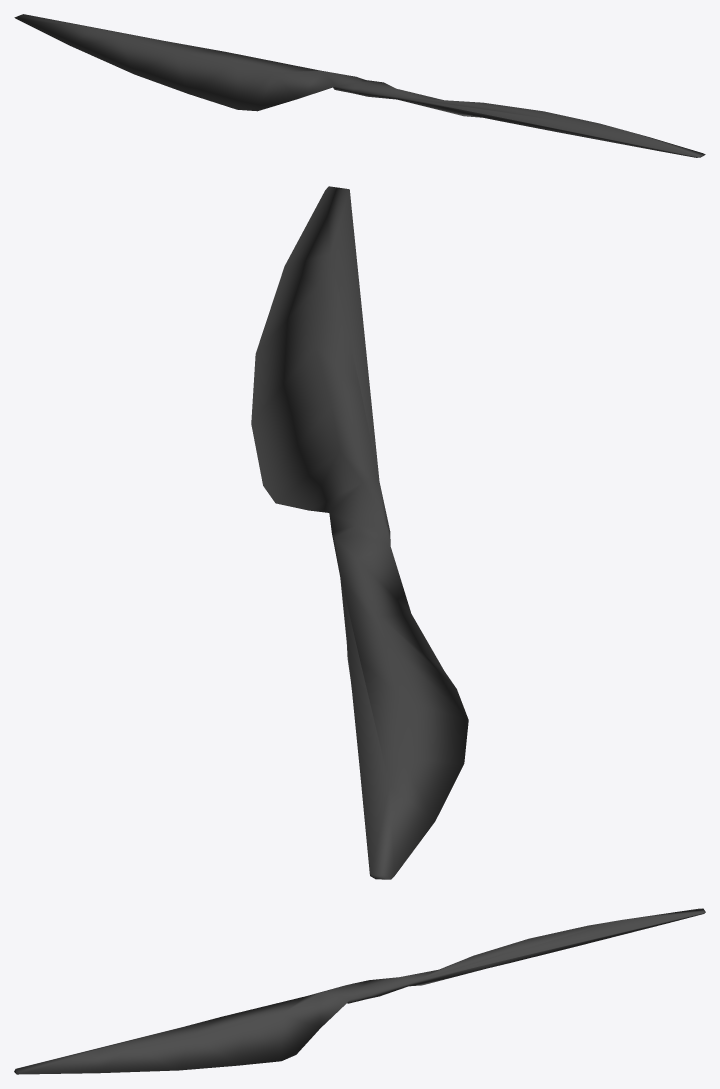
Rendered from navi-15in-CCW-tex.dae.
3 views of the same model, one above another, from view 1: azimuth 30°, elevation 25°; view 2: azimuth 150°, elevation 25°; view 3: azimuth 270°, elevation 25° (orthographic). The views are drawn at different scales.
Visible parts, largest first — view 1: 15inch_prop_low.001; view 2: 15inch_prop_low.001; view 3: 15inch_prop_low.001.
Boxes of the visible parts, left/top/right/bottom form: 15inch_prop_low.001: left=14, top=14, right=705, bottom=157; 15inch_prop_low.001: left=251, top=186, right=468, bottom=879; 15inch_prop_low.001: left=14, top=908, right=705, bottom=1074.
Size of the model in its own units: 0.2057 by 0.328 by 0.0233.
1 material, 1 textured.
